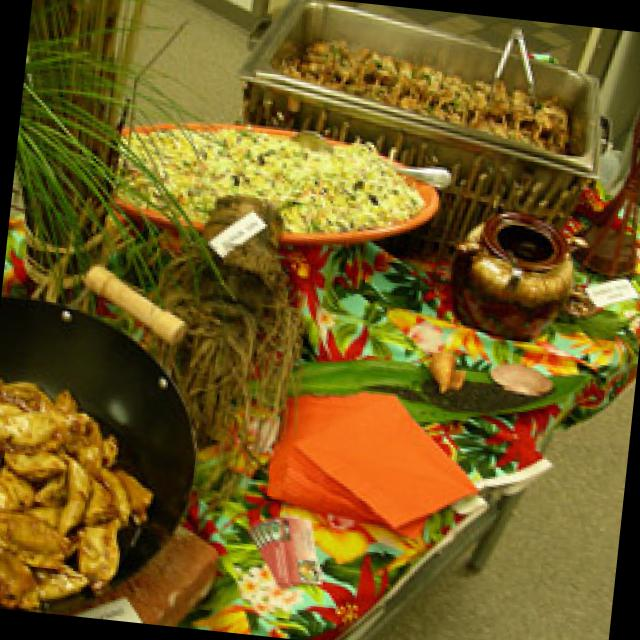2022: (0, 258, 191, 603)
casserole: (449, 211, 570, 338)
dish -X: (80, 117, 433, 244)
floor -X: (356, 274, 640, 640), (119, 0, 262, 123)
food procesor: (113, 122, 421, 232), (0, 378, 148, 603), (279, 37, 568, 147)
paper roll: (267, 390, 476, 536)
plant -x: (18, 0, 148, 305)
table runner: (0, 149, 640, 640)
tongs occluded: (488, 26, 533, 91)
tray occluded: (233, 0, 608, 258)
wall clock: (566, 25, 640, 157), (189, 0, 283, 37)
